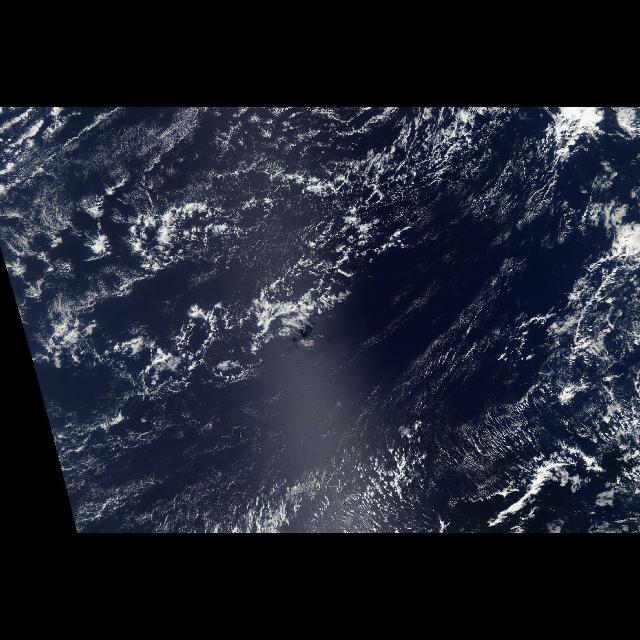Sugar: (0, 108, 590, 532), (55, 393, 291, 533)
